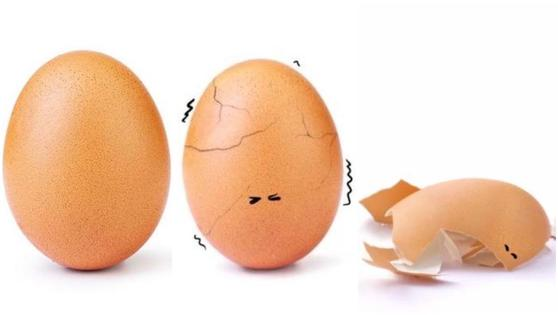egg: (1, 48, 172, 280)
